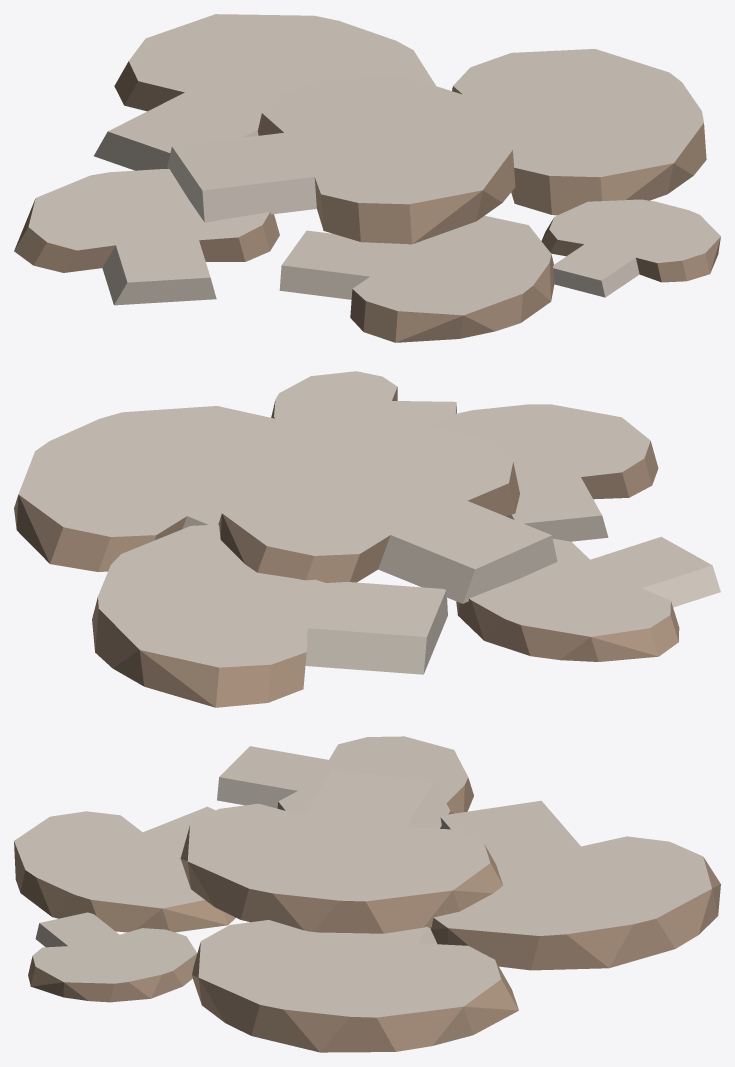
Rendered from SM_Mushroom_Sliced.fbx.
The picture shows the model from 3 angles, top to bottom: view 1: azimuth 30°, elevation 25°; view 2: azimuth 150°, elevation 25°; view 3: azimuth 270°, elevation 25°; orthographic projection. The views are drawn at different scales.
Visible parts, largest first — view 1: sliced mushroom; view 2: sliced mushroom; view 3: sliced mushroom.
Part boxes in pixels (<box>): sliced mushroom: <box>14,14,720,342</box>; sliced mushroom: <box>14,371,720,707</box>; sliced mushroom: <box>14,736,720,1052</box>.
Size of the model in its own units: 62.29 by 5.86 by 61.88.
